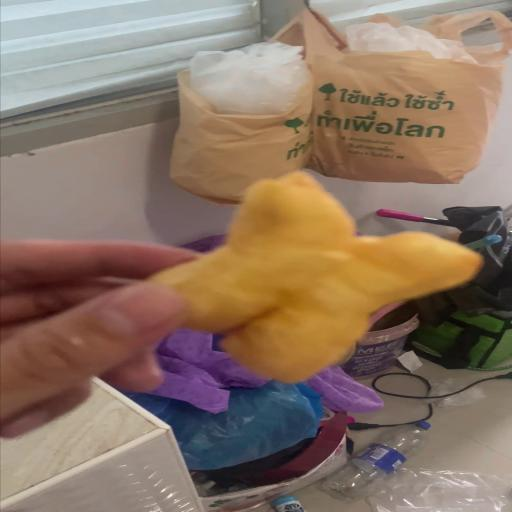street_golden_good: (150, 172, 480, 381)
